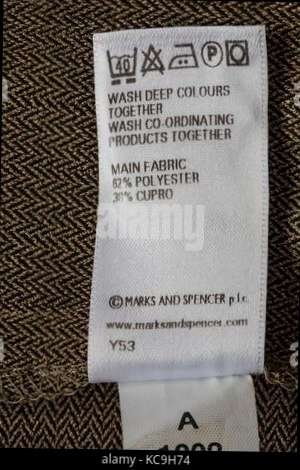40C: (103, 43, 141, 89)
DN_bleach: (138, 42, 166, 77)
dry_clean_any_solvent_except_trichloroethylene: (200, 40, 225, 69)
iron_medium: (167, 37, 200, 74)
tumble_dry_normal: (225, 39, 251, 69)
